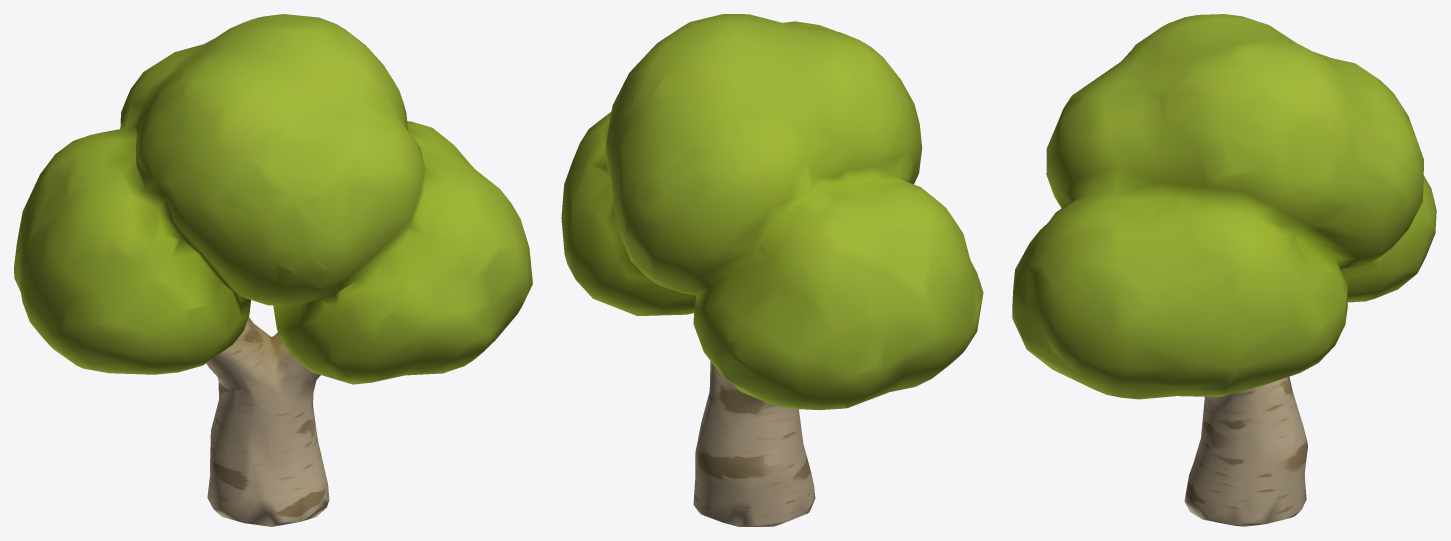
3 views of the same model, side by side, from view 1: azimuth 30°, elevation 25°; view 2: azimuth 150°, elevation 25°; view 3: azimuth 270°, elevation 25° (orthographic).
Visible parts, largest first — view 1: tripo_node_26832af1-87a1-4f1c-8776-6d557022df05; view 2: tripo_node_26832af1-87a1-4f1c-8776-6d557022df05; view 3: tripo_node_26832af1-87a1-4f1c-8776-6d557022df05.
Boxes of the visible parts, x1,y1,x2,y2 form: tripo_node_26832af1-87a1-4f1c-8776-6d557022df05: (14,14,532,526); tripo_node_26832af1-87a1-4f1c-8776-6d557022df05: (561,14,983,526); tripo_node_26832af1-87a1-4f1c-8776-6d557022df05: (1012,14,1436,526).
Bounding box in the file's own units: 0.9356 × 1 × 0.821.
Materials: 1 (1 with a texture image).
